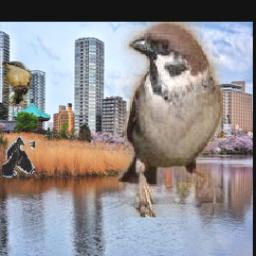Crow: (1, 136, 34, 178)
Cuckoo: (1, 61, 32, 107)
Sparrow: (117, 22, 222, 217)
